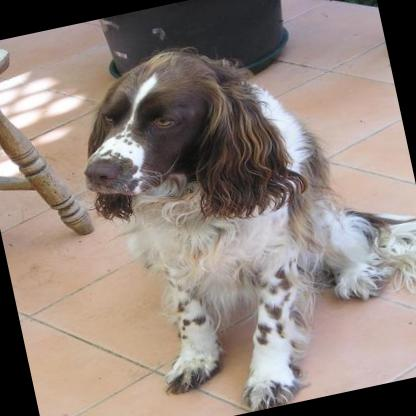English_springer: (58, 4, 416, 416)
